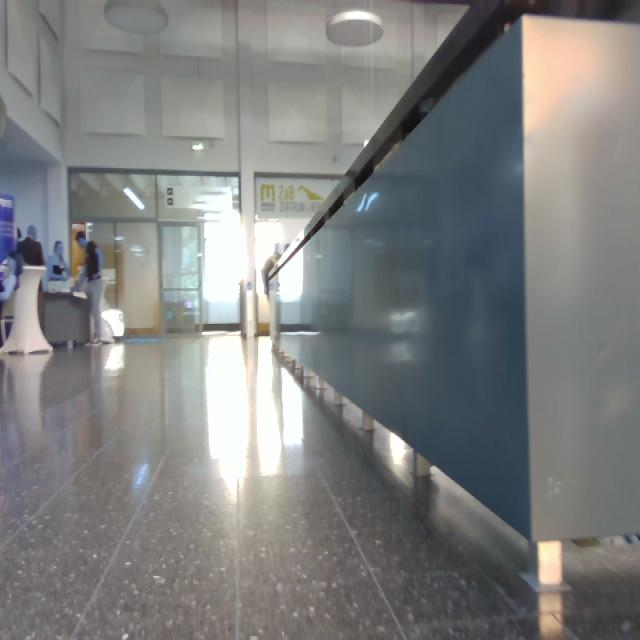desk: (39, 292, 91, 348)
door: (162, 226, 202, 333)
light bulb: (105, 1, 168, 34), (328, 9, 383, 46), (124, 188, 144, 210)
person: (76, 233, 101, 342), (1, 252, 22, 309), (19, 226, 44, 265), (47, 241, 70, 282)
staircase: (265, 1, 640, 592)
table: (1, 266, 52, 353)
tiled floor: (1, 336, 640, 640)
